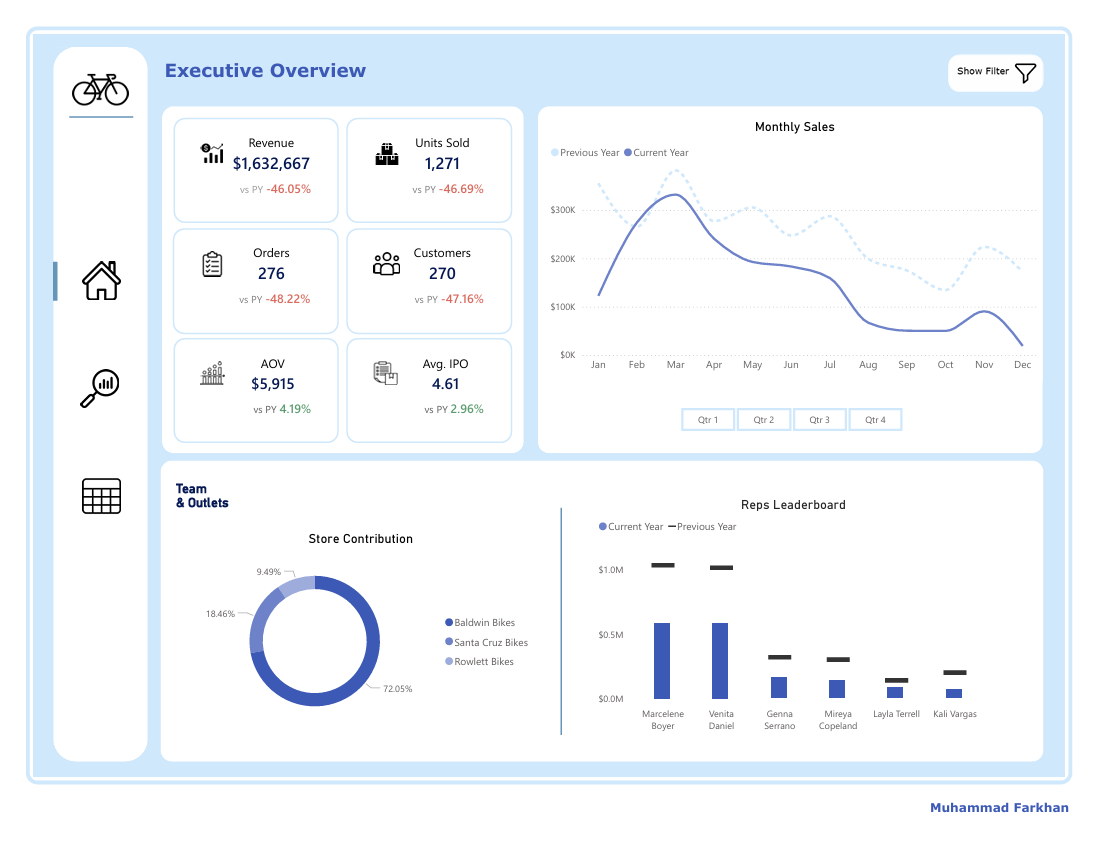

The dashboard page shown, as its layout file describes it:
{"tool":"powerbi","page":{"name":"Executive Overview","canvas":[1400,1090],"ordinal":0},"visuals":[{"type":"shape","box":[1116,1016,270,62],"z":500},{"type":"shape","box":[12.3,12.3,1374.9,994.3],"z":1000},{"type":"shape","box":[190.9,117.5,475.2,454.2],"z":2000},{"type":"shape","box":[47.6,38.6,124.5,938.2],"z":3000},{"type":"cardVisual","fields":{"Data":["_Measures .TotalUnitsSold"]},"box":[433.1,131.5,217.5,138.5],"z":4000},{"type":"lineChart","title":"Monthly Revenue","fields":{"Category":["Calendar.ShortMonth"],"Y2":["_Measures .TotalRevenue"],"Y":["_Measures .RevenuePY"]},"box":[685,117.5,662.9,373.5],"z":5000},{"type":"cardVisual","fields":{"Data":["_Measures .TotalCustomers"]},"box":[433.1,277.1,217.5,138.5],"z":6000},{"type":"cardVisual","fields":{"Data":["_Measures .TotalOrders"]},"box":[205.2,277.1,217.5,138.5],"z":7000},{"type":"cardVisual","fields":{"Data":["_Measures .TotalRevenue"]},"box":[205.5,131.5,217.5,138.5],"z":8000},{"type":"shape","box":[189.4,582.2,1159.2,394.6],"z":9000},{"type":"lineClusteredColumnComboChart","title":"Reps Leaderboard","fields":{"Category":["bike_sales bike_sales_clean.sales_rep"],"Y":["_Measures .TotalRevenue"],"Y2":["_Measures .RevenuePY"]},"box":[747.7,613.1,533.3,333.3],"z":10000},{"type":"donutChart","title":"Store Contribution","fields":{"Category":["bike_sales bike_sales_clean.store_name"],"Y":["_Measures .TotalRevenue"]},"box":[204.9,657.9,481.7,283.3],"z":11000},{"type":"textbox","box":[204.1,603,198.7,55.3],"z":12000},{"type":"shape","box":[686.2,644.5,58.7,297.2],"z":13000},{"type":"textbox","box":[189.4,49.1,326.2,70.1],"z":14000},{"type":"cardVisual","fields":{"Data":["_Measures .AOV"]},"box":[205.5,420.9,217.5,138.5],"z":15000},{"type":"shape","box":[685,478.7,662.9,92.9],"z":16000},{"type":"slicer","fields":{"Values":["Calendar.Date.Variation.Date Hierarchy.Quarter"]},"box":[846.6,505.7,340.9,43.6],"z":17000},{"type":"cardVisual","fields":{"Data":["_Measures .AvgIPO"]},"box":[433.1,420.9,217.5,138.5],"z":18000},{"type":"image","box":[74.4,320.9,73.7,50.9],"z":19000},{"type":"shape","box":[18.2,320.9,64.9,50.9],"z":20000},{"type":"image","box":[72.6,462.1,73.7,50.9],"z":21000},{"type":"image","box":[74.4,603.3,73.7,50.9],"z":22000},{"type":"image","box":[67.3,57.9,84.2,73.7],"z":23000},{"type":"shape","box":[69.1,87.7,84.2,85.9],"z":24000},{"type":"image","box":[1224,49.1,124.5,49.1],"z":25000},{"type":"textbox","box":[1115.9,1030.4,253.3,29.6],"z":27000},{"type":"image","box":[1116.8,1014.1,78,62],"z":28000}]}

Visuals, with their boxes in screenshot pixels (x1, y1, x2, y2), scaled from the page's 1400x1090 canvas onto the 1096x848 screenshot:
shape: bbox(874, 790, 1085, 839)
shape: bbox(10, 10, 1086, 783)
shape: bbox(149, 91, 521, 445)
shape: bbox(37, 30, 135, 760)
cardVisual - _Measures .TotalUnitsSold: bbox(339, 102, 509, 210)
"Monthly Revenue" lineChart: bbox(536, 91, 1055, 382)
cardVisual - _Measures .TotalCustomers: bbox(339, 216, 509, 323)
cardVisual - _Measures .TotalOrders: bbox(161, 216, 331, 323)
cardVisual - _Measures .TotalRevenue: bbox(161, 102, 331, 210)
shape: bbox(148, 453, 1056, 760)
"Reps Leaderboard" lineClusteredColumnComboChart: bbox(585, 477, 1003, 736)
"Store Contribution" donutChart: bbox(160, 512, 538, 732)
textbox: bbox(160, 469, 315, 512)
shape: bbox(537, 501, 583, 733)
textbox: bbox(148, 38, 404, 93)
cardVisual - _Measures .AOV: bbox(161, 327, 331, 435)
shape: bbox(536, 372, 1055, 445)
slicer - Calendar.Date.Variation.Date Hierarchy.Quarter: bbox(663, 393, 930, 427)
cardVisual - _Measures .AvgIPO: bbox(339, 327, 509, 435)
image: bbox(58, 250, 116, 289)
shape: bbox(14, 250, 65, 289)
image: bbox(57, 360, 115, 399)
image: bbox(58, 469, 116, 509)
image: bbox(53, 45, 119, 102)
shape: bbox(54, 68, 120, 135)
image: bbox(958, 38, 1056, 76)
textbox: bbox(874, 802, 1072, 825)
image: bbox(874, 789, 935, 837)
